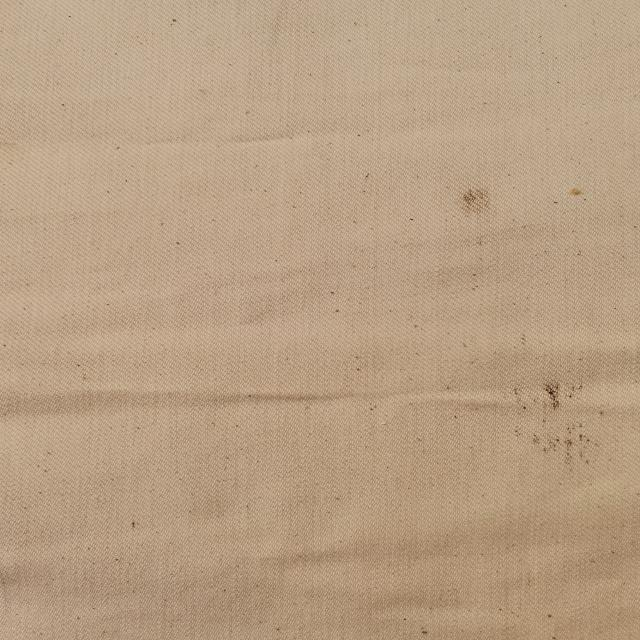taaaches: (496, 377, 620, 469), (448, 187, 501, 217), (558, 183, 596, 201)
